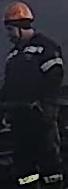helmet: (2, 1, 34, 26)
vest: (3, 32, 64, 109)
